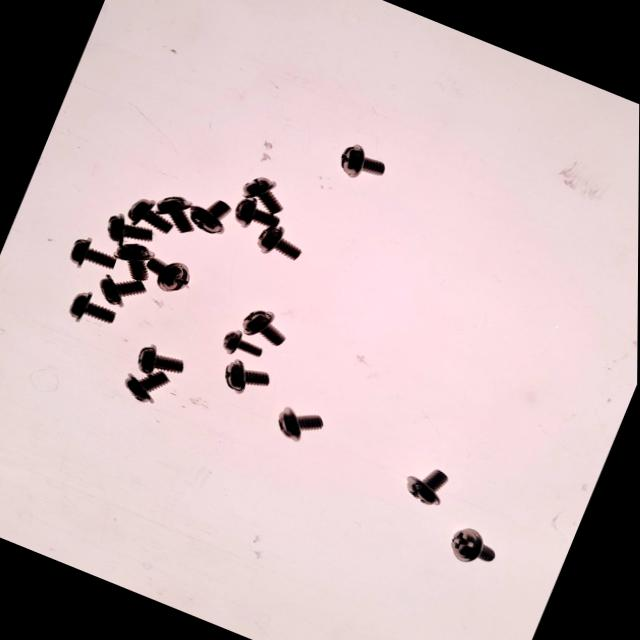Screws: (233, 179, 304, 261), (126, 194, 226, 237), (118, 245, 189, 304), (123, 348, 183, 410), (329, 140, 388, 185), (403, 466, 453, 511), (133, 345, 186, 385), (241, 174, 285, 220), (450, 527, 499, 567), (276, 406, 328, 443), (242, 309, 292, 347), (68, 293, 119, 328), (68, 237, 116, 272), (105, 215, 156, 245), (223, 362, 271, 393), (223, 331, 266, 359), (106, 284, 144, 302)
